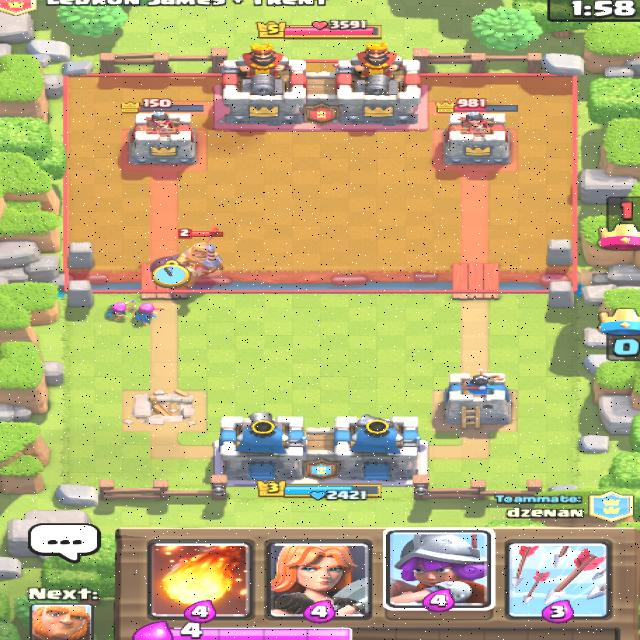Enemy-Prince: (174, 225, 225, 276)
Player-Archer: (130, 302, 163, 325), (103, 300, 129, 322)
Player-GiantBomb: (147, 252, 177, 274)
